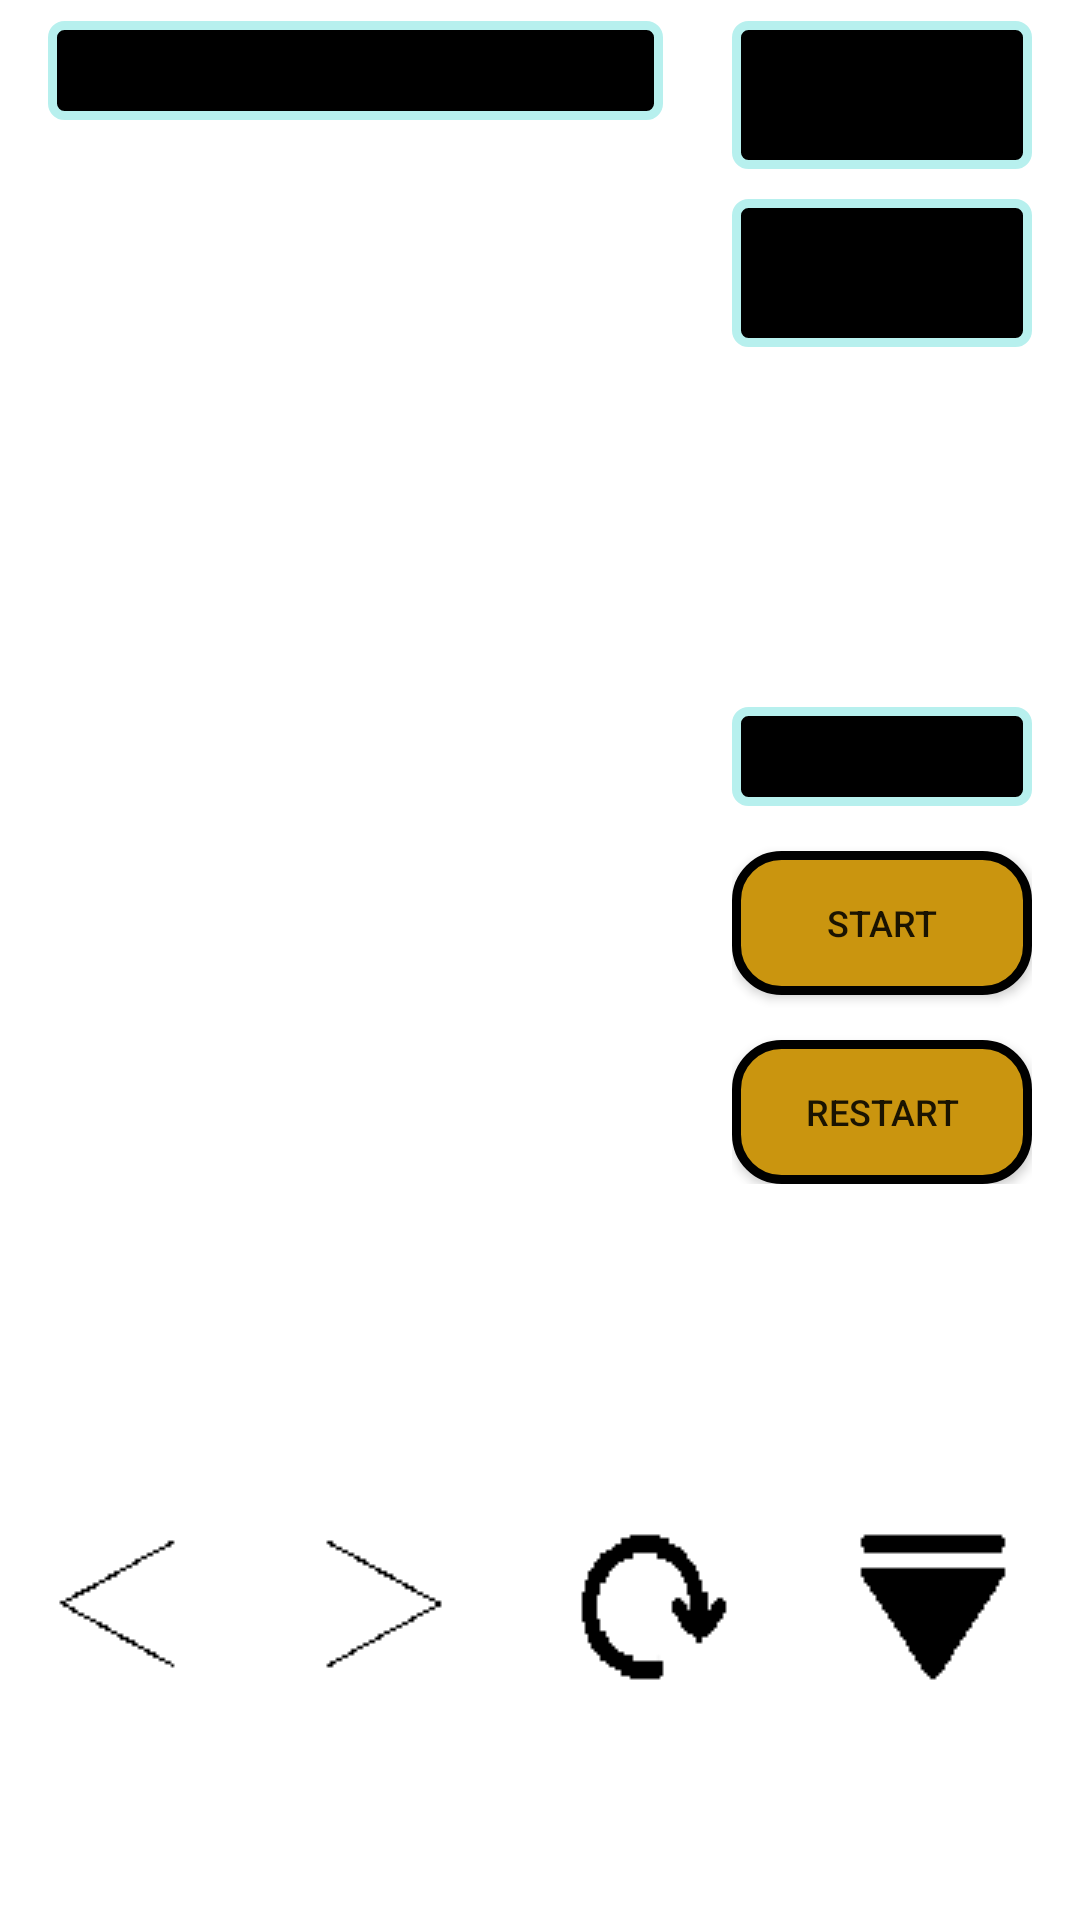

Locate icon controls on the screen. Image size 1080x1920, boxes as box(x1, y1, x2, y2).
arrowdrop: box(860, 1534, 1006, 1680)
arrowleft: box(59, 1540, 175, 1668)
arrowright: box(326, 1540, 442, 1668)
arrowrotate: box(581, 1534, 727, 1680)
